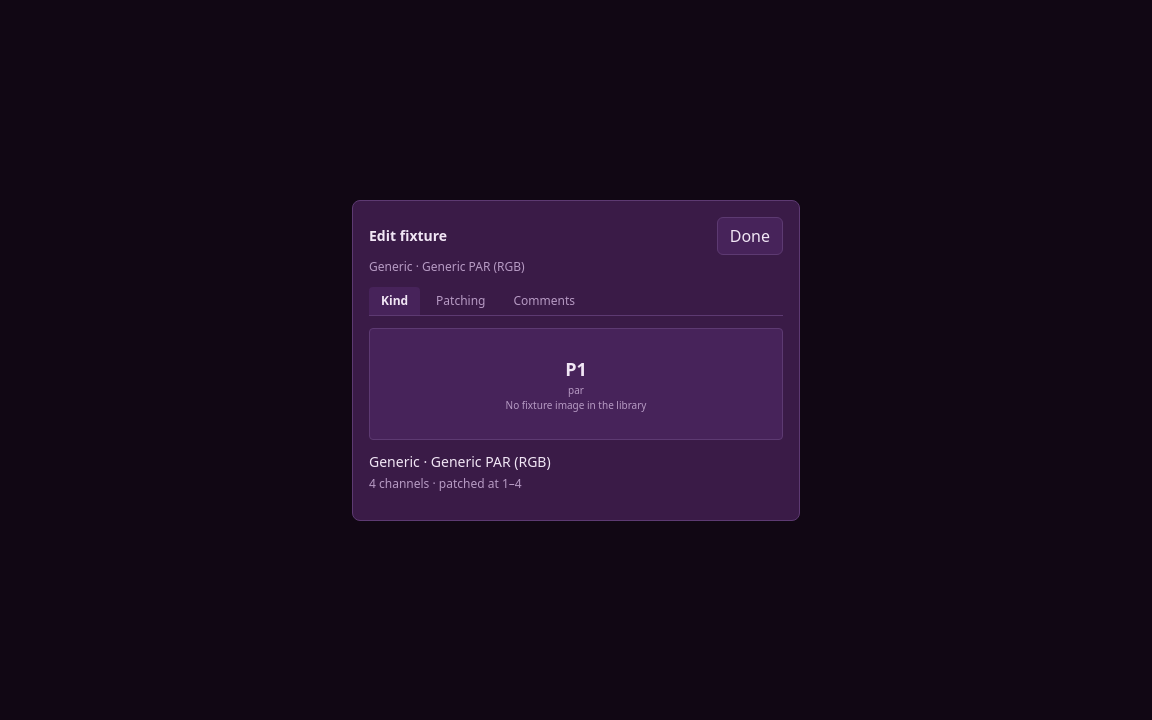
Scenario: Patch dialog edit mode › disables from the "…" menu and the footer reads No output
The width and height of the screenshot is (1152, 720).
Click the tab "Comments".
click(544, 300)  # box 502,286 -> 587,314
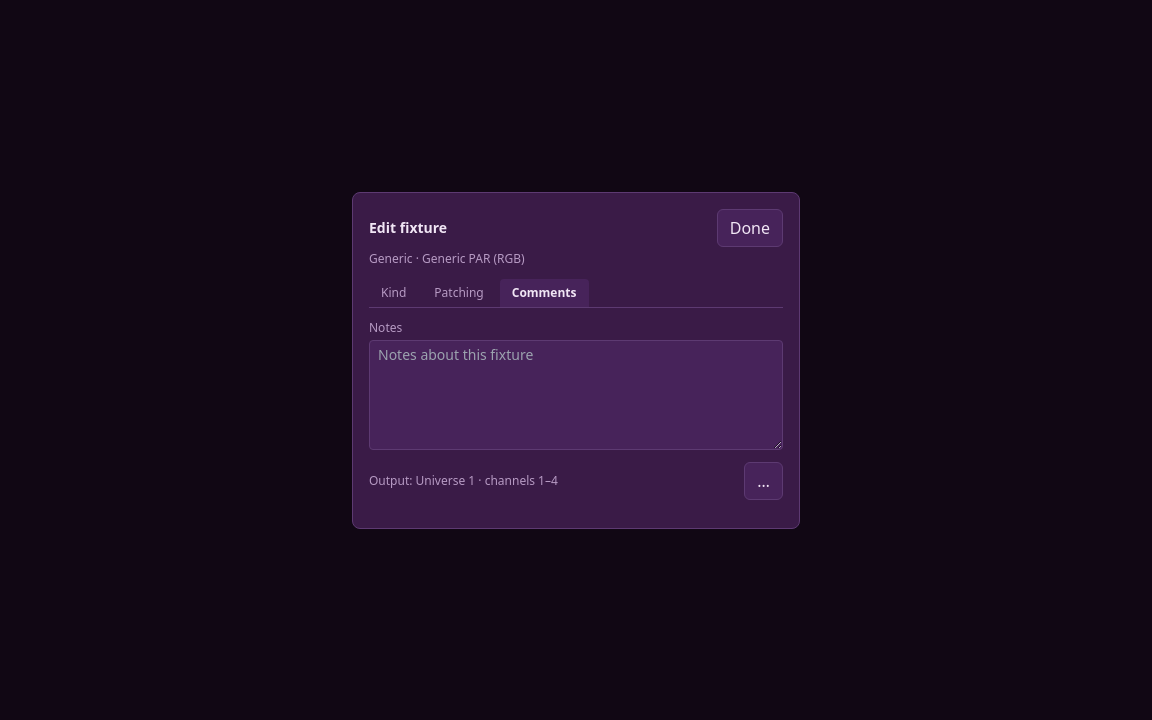
expect the text "Output: Universe 1 · channels 1–4" is shown: met, box 369,472 -> 558,488
Click the button named "Fixture actions".
click(764, 480)  # box 744,462 -> 783,500
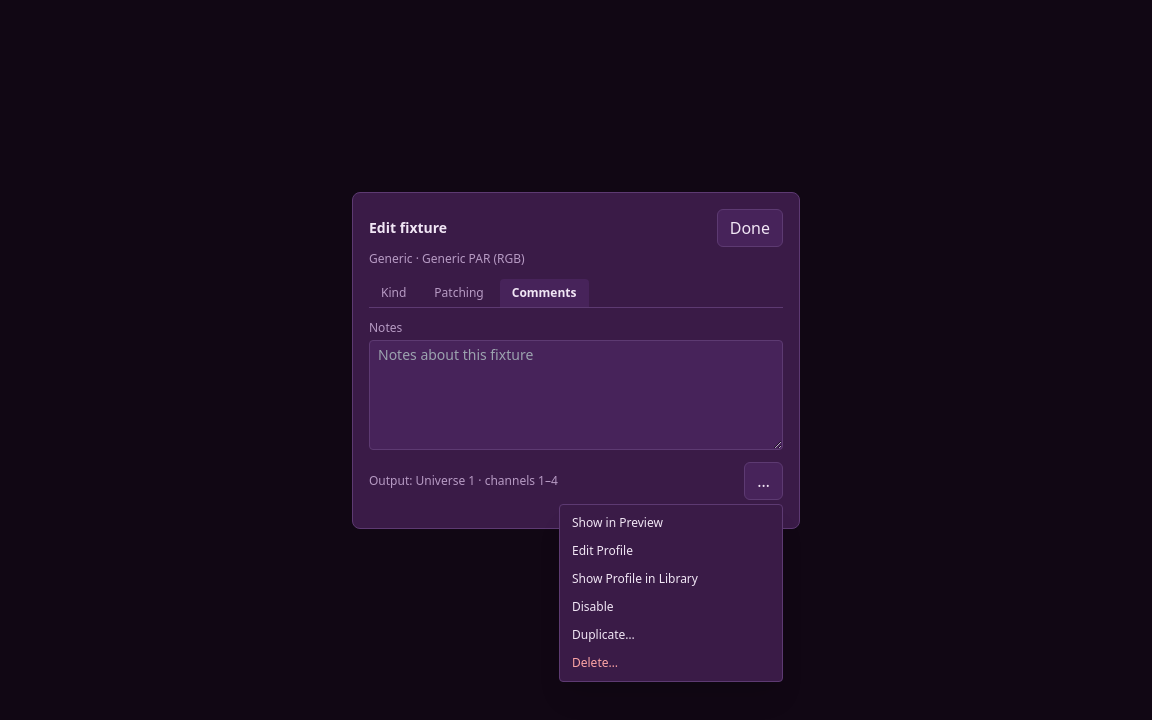
Click the menu item "Disable".
click(671, 606)  # box 560,592 -> 782,620
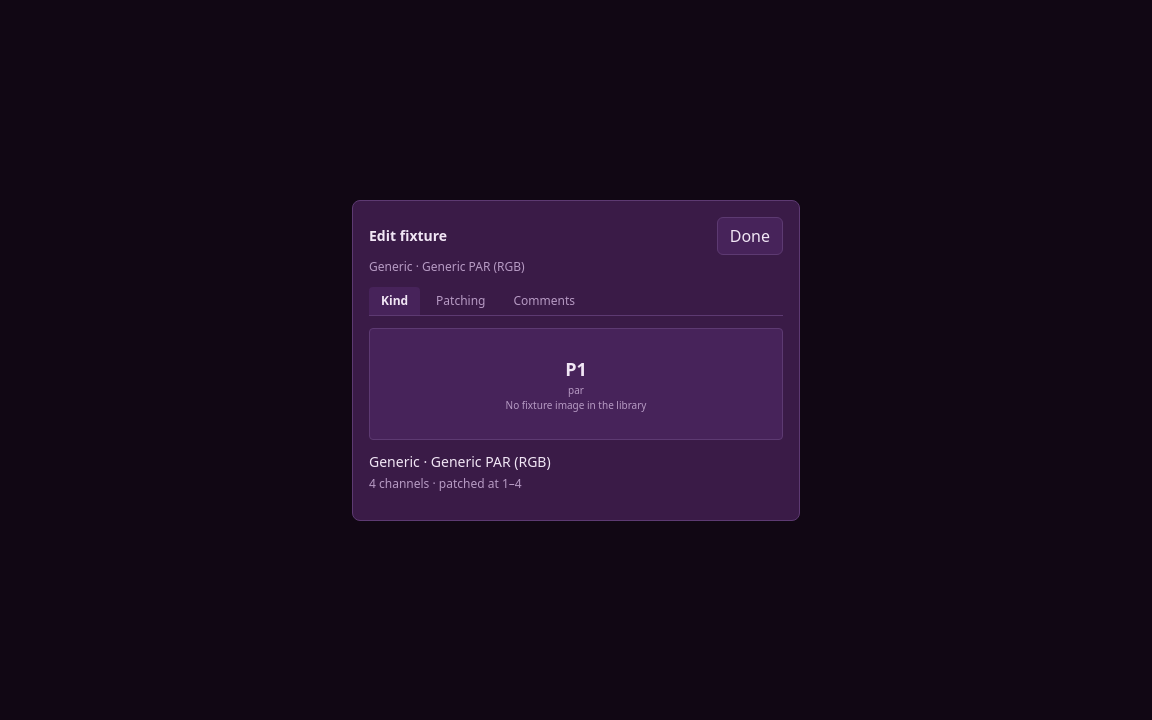
Click the tab "Comments".
click(544, 300)  # box 502,286 -> 587,314
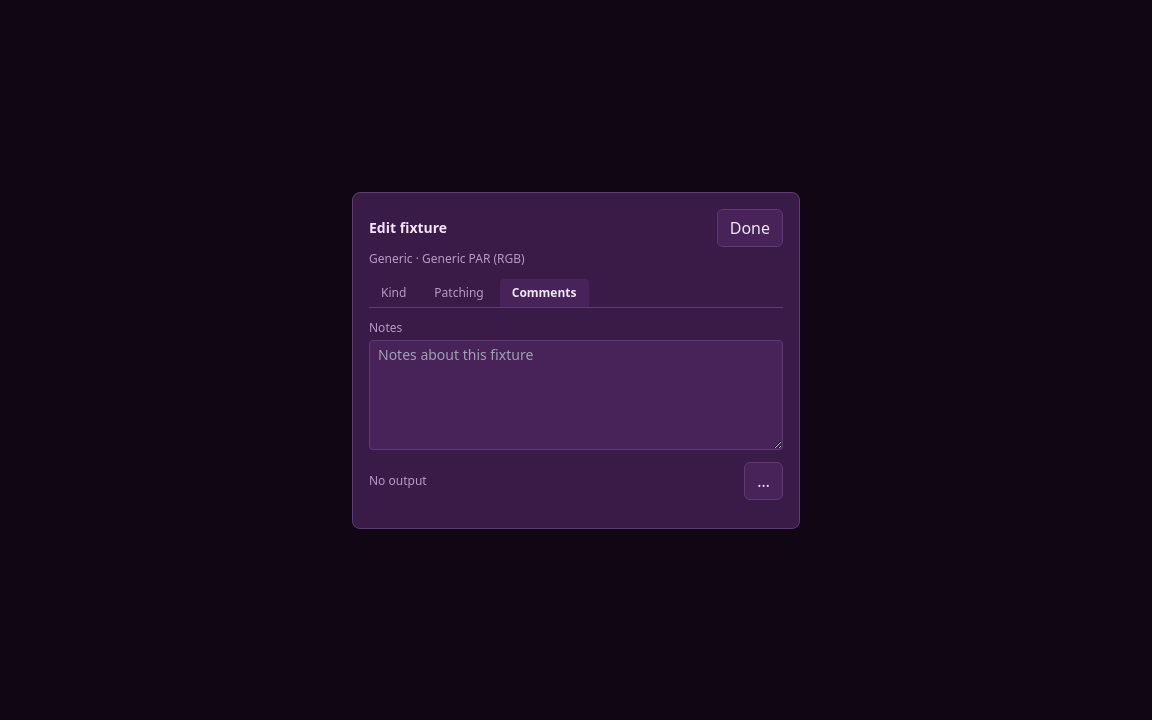
expect the text "No output" is shown: met, box 369,472 -> 427,488
